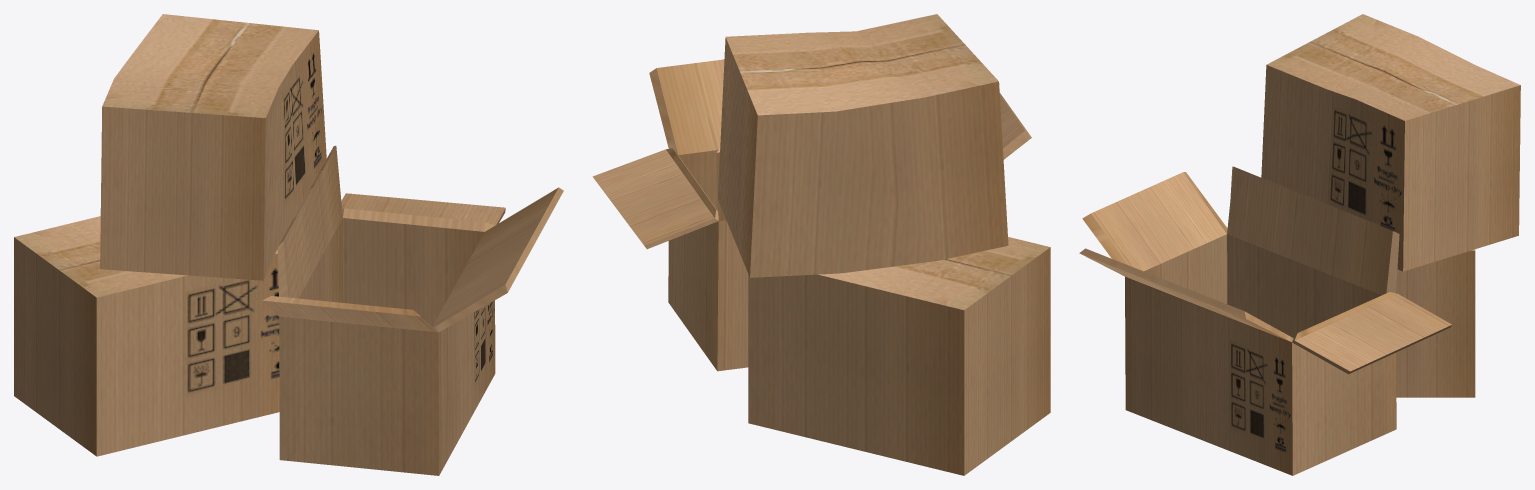
The model's file is obj_cardboardboxes.fbx.
3 views of the same model, side by side, from view 1: azimuth 30°, elevation 25°; view 2: azimuth 150°, elevation 25°; view 3: azimuth 270°, elevation 25° (orthographic). The views are drawn at different scales.
Visible parts, largest first — view 1: pCube58; view 2: pCube58; view 3: pCube58.
Part boxes in pixels (x1,y1,x2,y2): pCube58: [14, 14, 563, 475]; pCube58: [592, 14, 1050, 475]; pCube58: [1079, 14, 1520, 475].
Size of the model in its own units: 3.47 by 2.56 by 3.37.
1 material, 1 textured.
